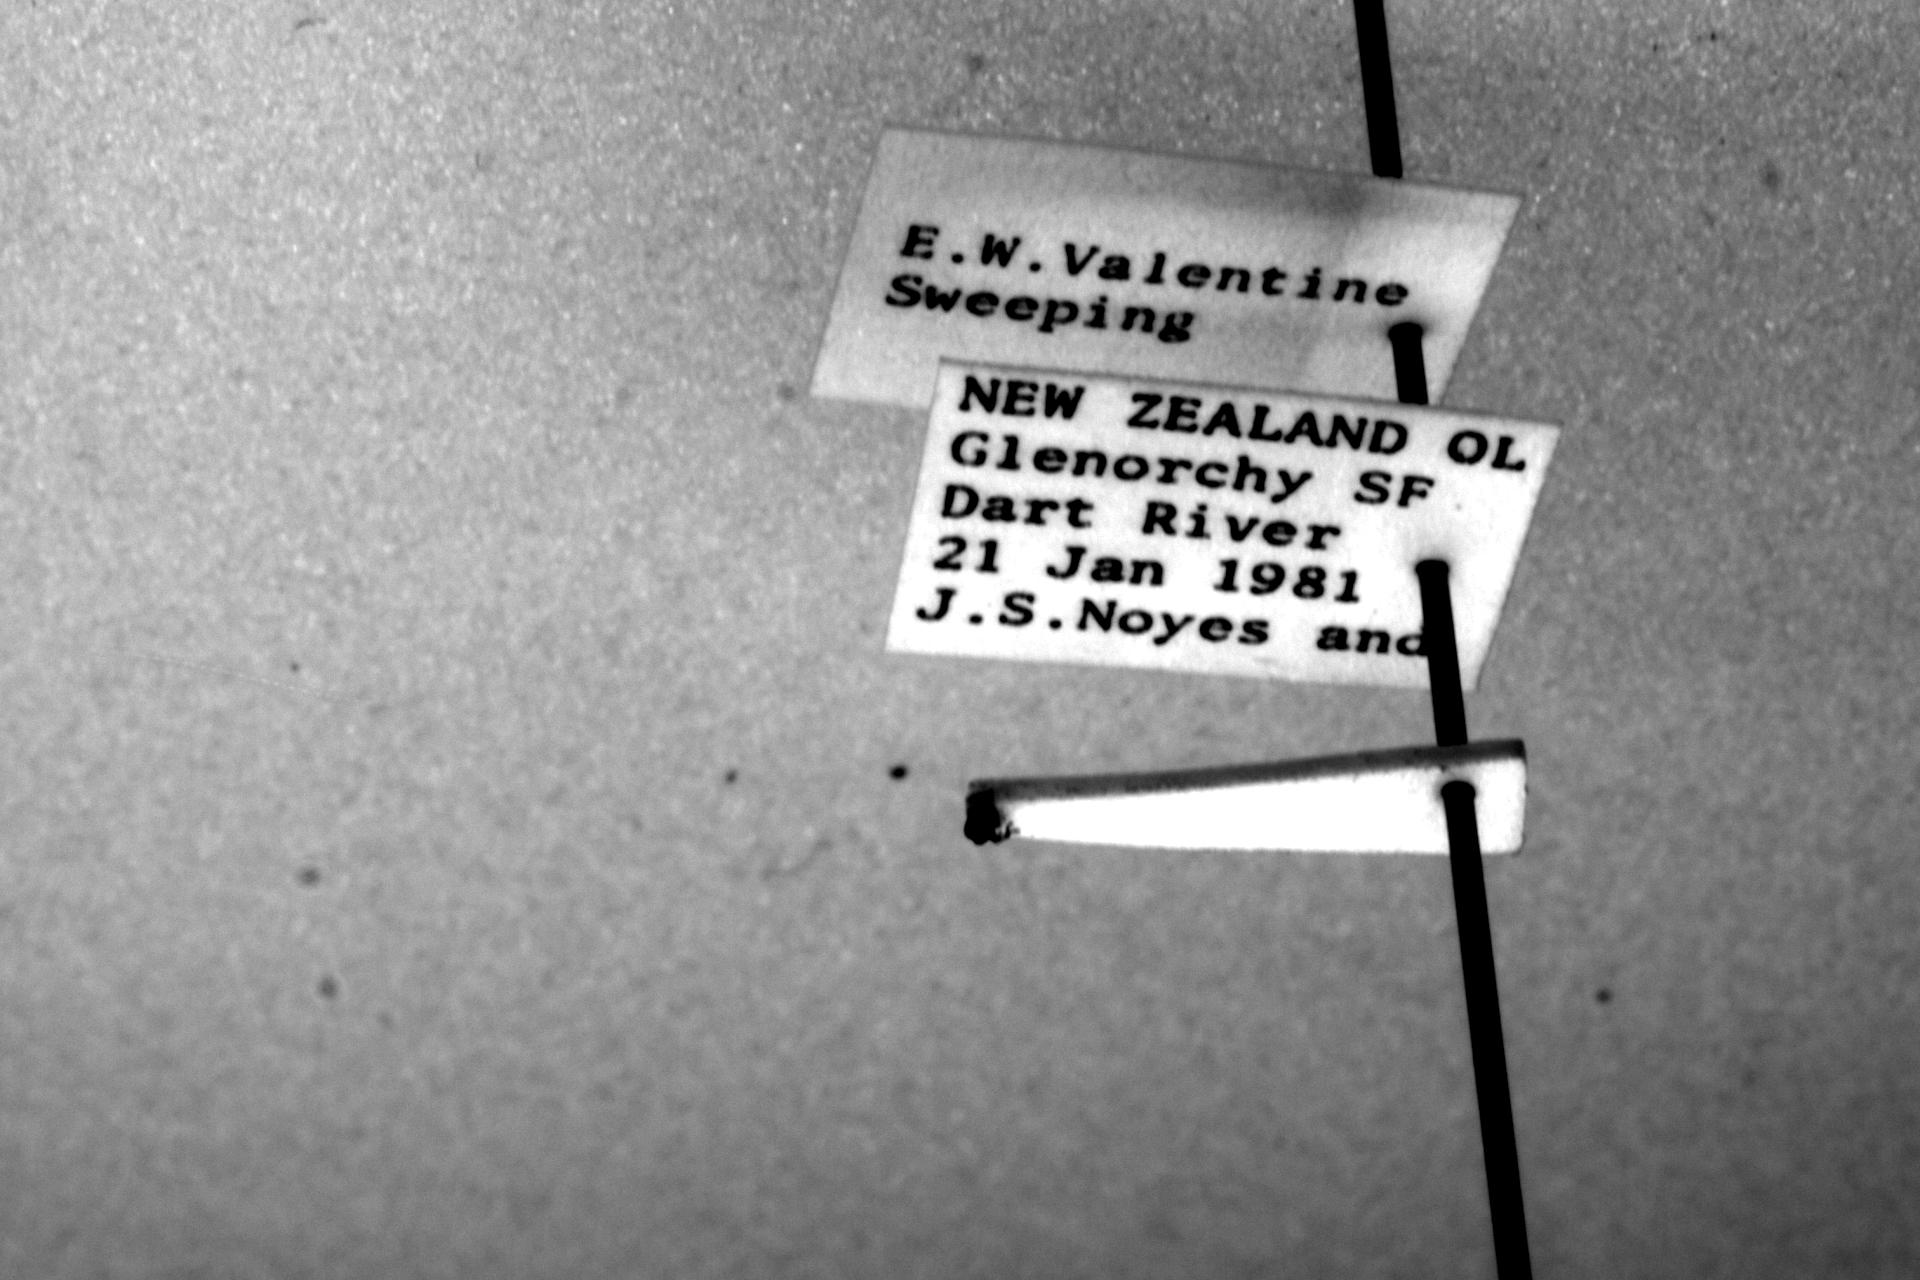typed_label: (889, 364, 1560, 686), (810, 127, 1519, 409)
